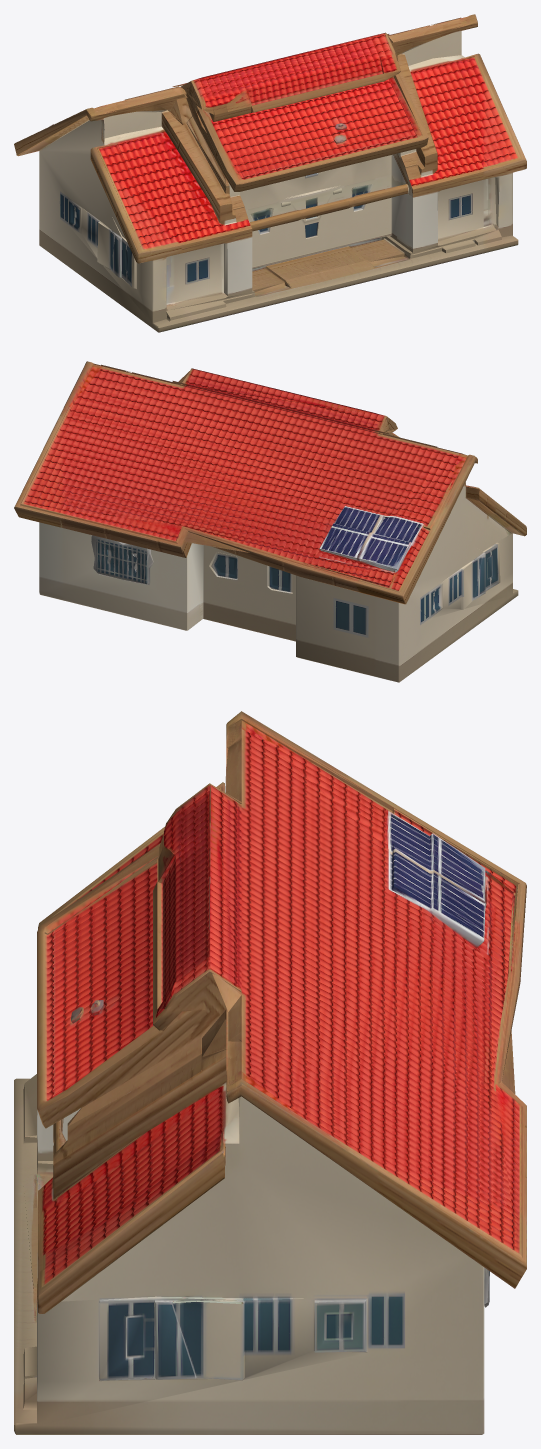
The model's file is placed_bld_556597977.glb.
3 renders of one model, top to bottom at view 1: azimuth 30°, elevation 25°; view 2: azimuth 150°, elevation 25°; view 3: azimuth 270°, elevation 25°, orthographic. The views are drawn at different scales.
Parts seen in each view (by area): view 1: bld_556597977; view 2: bld_556597977; view 3: bld_556597977.
Part boxes in pixels (x1=…): bld_556597977: x1=14, y1=14, x2=526, y2=332; bld_556597977: x1=14, y1=361, x2=526, y2=682; bld_556597977: x1=14, y1=711, x2=526, y2=1434.
Size of the model in its own units: 17.01 by 8.2 by 9.86.
1 material, 1 textured.
